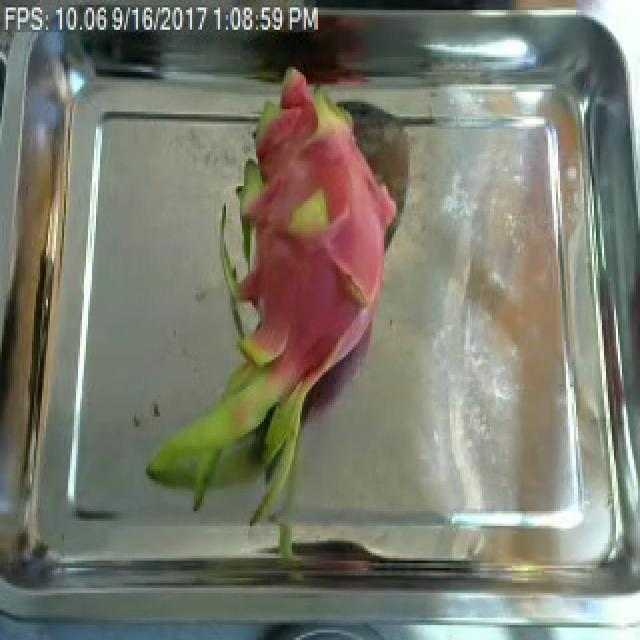fruit: (162, 97, 392, 521)
